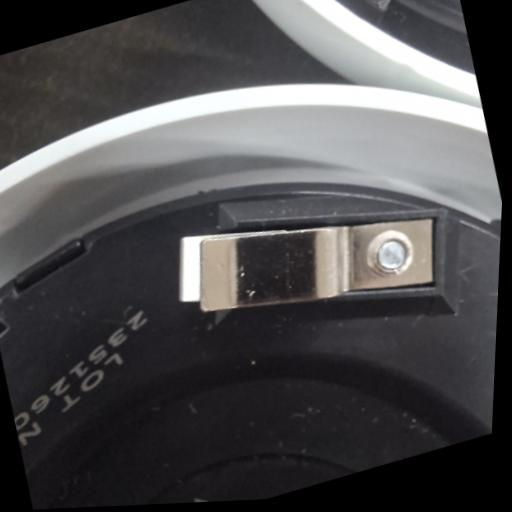yayli: (161, 165, 450, 357)
